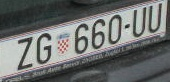0: (108, 14, 122, 46)
6: (74, 22, 89, 55), (91, 18, 106, 51)
G: (36, 32, 53, 67)
U: (147, 3, 164, 35), (132, 7, 145, 38)
Z: (14, 37, 32, 71)
